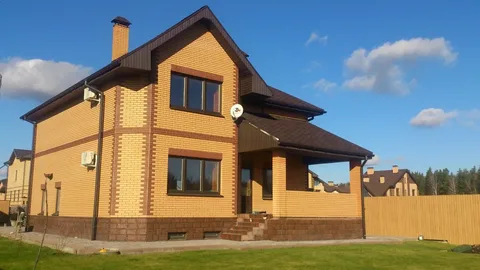private_hause: (36, 33, 316, 232)
